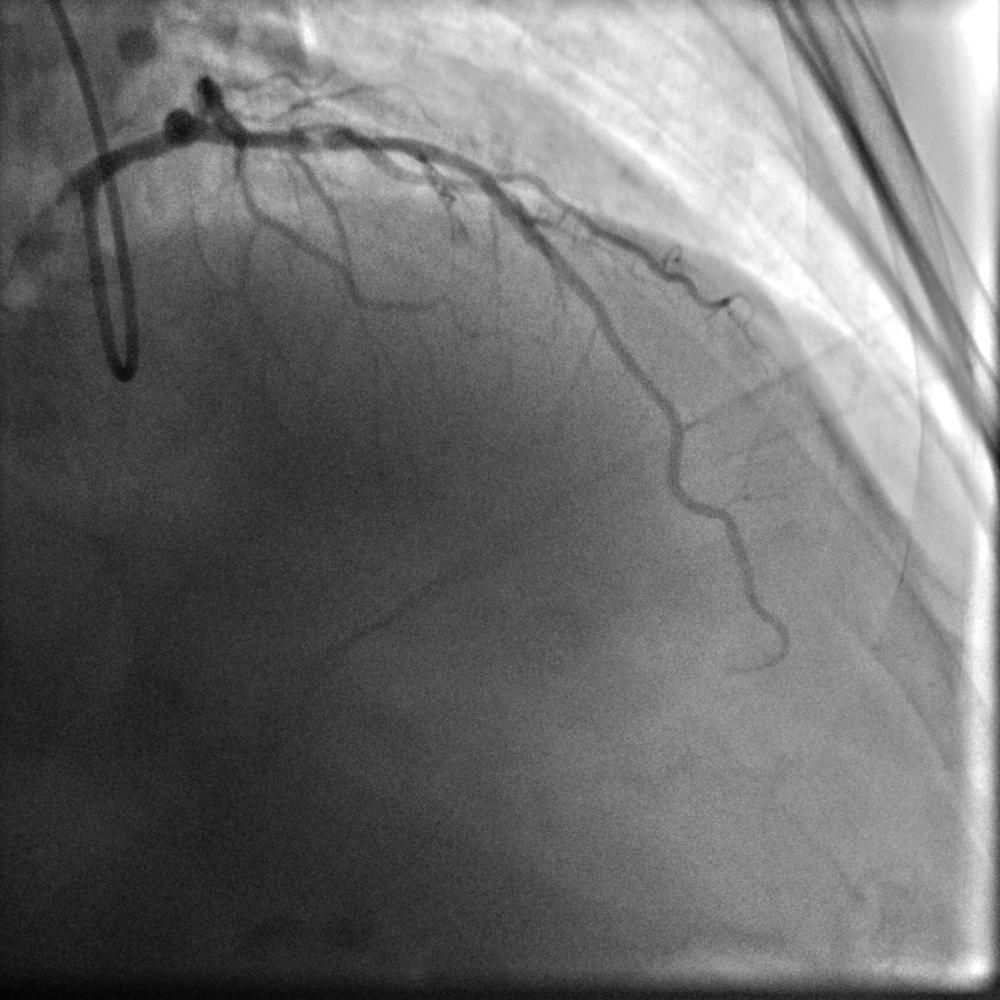Stenosis: (306, 133, 335, 152)
